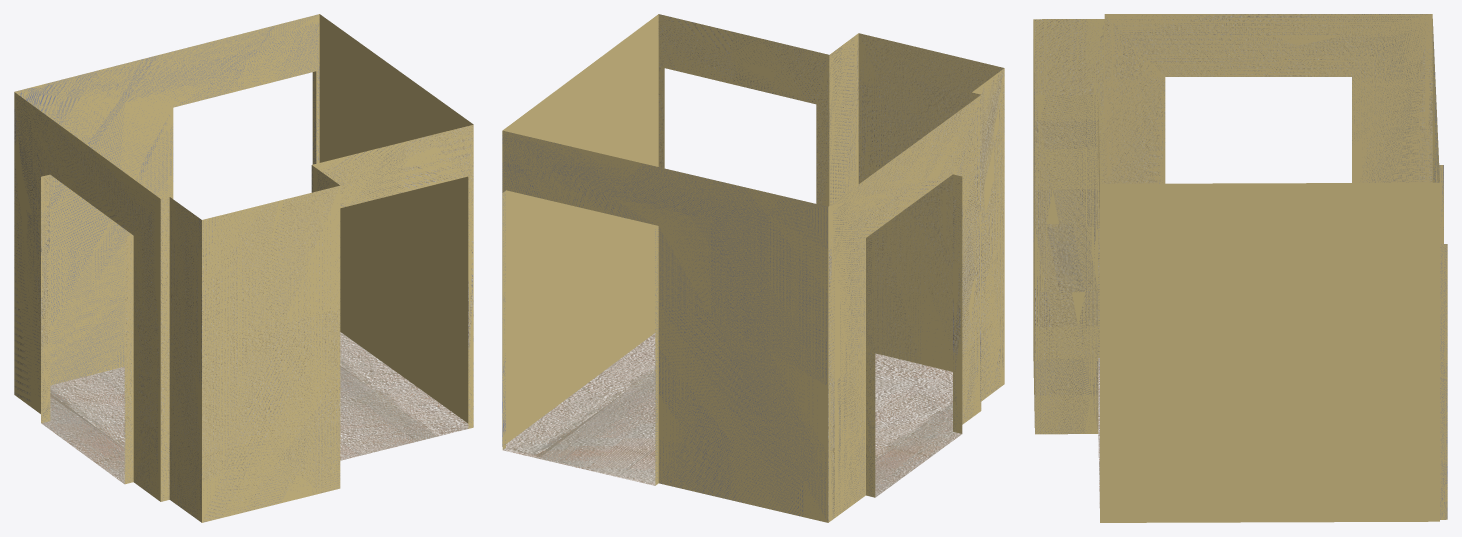
File: COM019.obj
3 views of the same model, side by side, from view 1: azimuth 30°, elevation 25°; view 2: azimuth 150°, elevation 25°; view 3: azimuth 270°, elevation 25° (orthographic). The views are drawn at different scales.
Parts seen in each view (by area): view 1: Mesh1 COM019 Model; view 2: Mesh1 COM019 Model; view 3: Mesh1 COM019 Model.
Part boxes in pixels (x1=…): Mesh1 COM019 Model: x1=14, y1=14, x2=473, y2=522; Mesh1 COM019 Model: x1=502, y1=14, x2=1004, y2=522; Mesh1 COM019 Model: x1=1033, y1=14, x2=1447, y2=522.
Bounding box in the file's own units: 3.98 × 3.6 × 3.98.
Materials: 4 (2 with a texture image).
